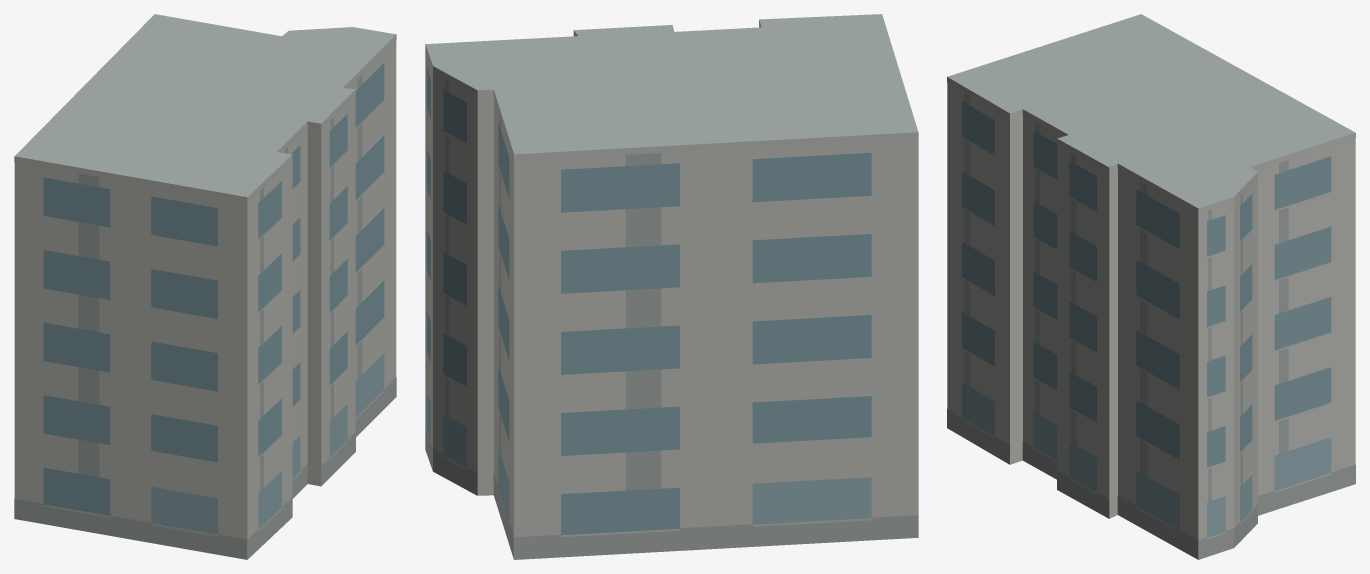
Rendered from survey-upis-32912475.glb.
The picture shows the model from 3 angles, left to right: view 1: azimuth 30°, elevation 25°; view 2: azimuth 150°, elevation 25°; view 3: azimuth 270°, elevation 25°; orthographic projection. The views are drawn at different scales.
Visible parts, largest first — view 1: survey-upis-32912475.tmp; view 2: survey-upis-32912475.tmp; view 3: survey-upis-32912475.tmp.
Part boxes in pixels (x1=…): survey-upis-32912475.tmp: x1=14, y1=14, x2=396, y2=559; survey-upis-32912475.tmp: x1=425, y1=14, x2=918, y2=559; survey-upis-32912475.tmp: x1=947, y1=14, x2=1355, y2=559.
Size of the model in its own units: 17.7 by 14.9 by 15.71.
